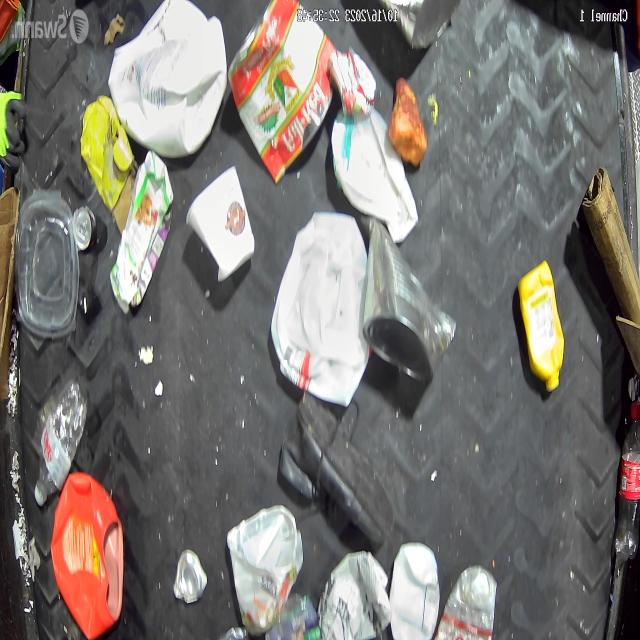can: (228, 0, 338, 184), (362, 216, 457, 384), (380, 0, 462, 50), (173, 547, 207, 607), (72, 205, 98, 252)
milk_jug: (271, 208, 368, 404), (109, 0, 227, 158), (331, 102, 419, 244)
non_white_jug: (48, 469, 125, 639), (110, 150, 174, 314), (518, 258, 565, 392)
plastic_bottle: (31, 378, 89, 507), (618, 408, 640, 555)
